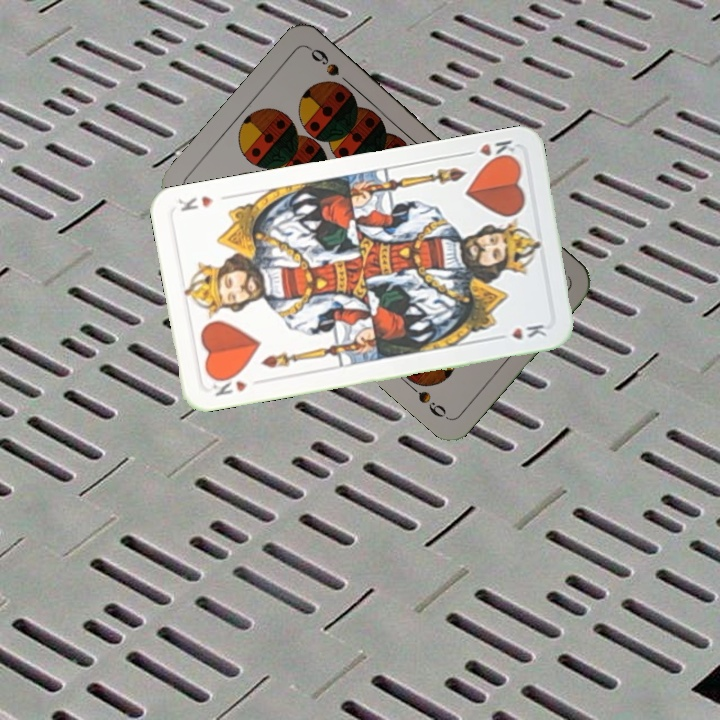HK: (459, 136, 518, 166), (208, 370, 250, 399)
